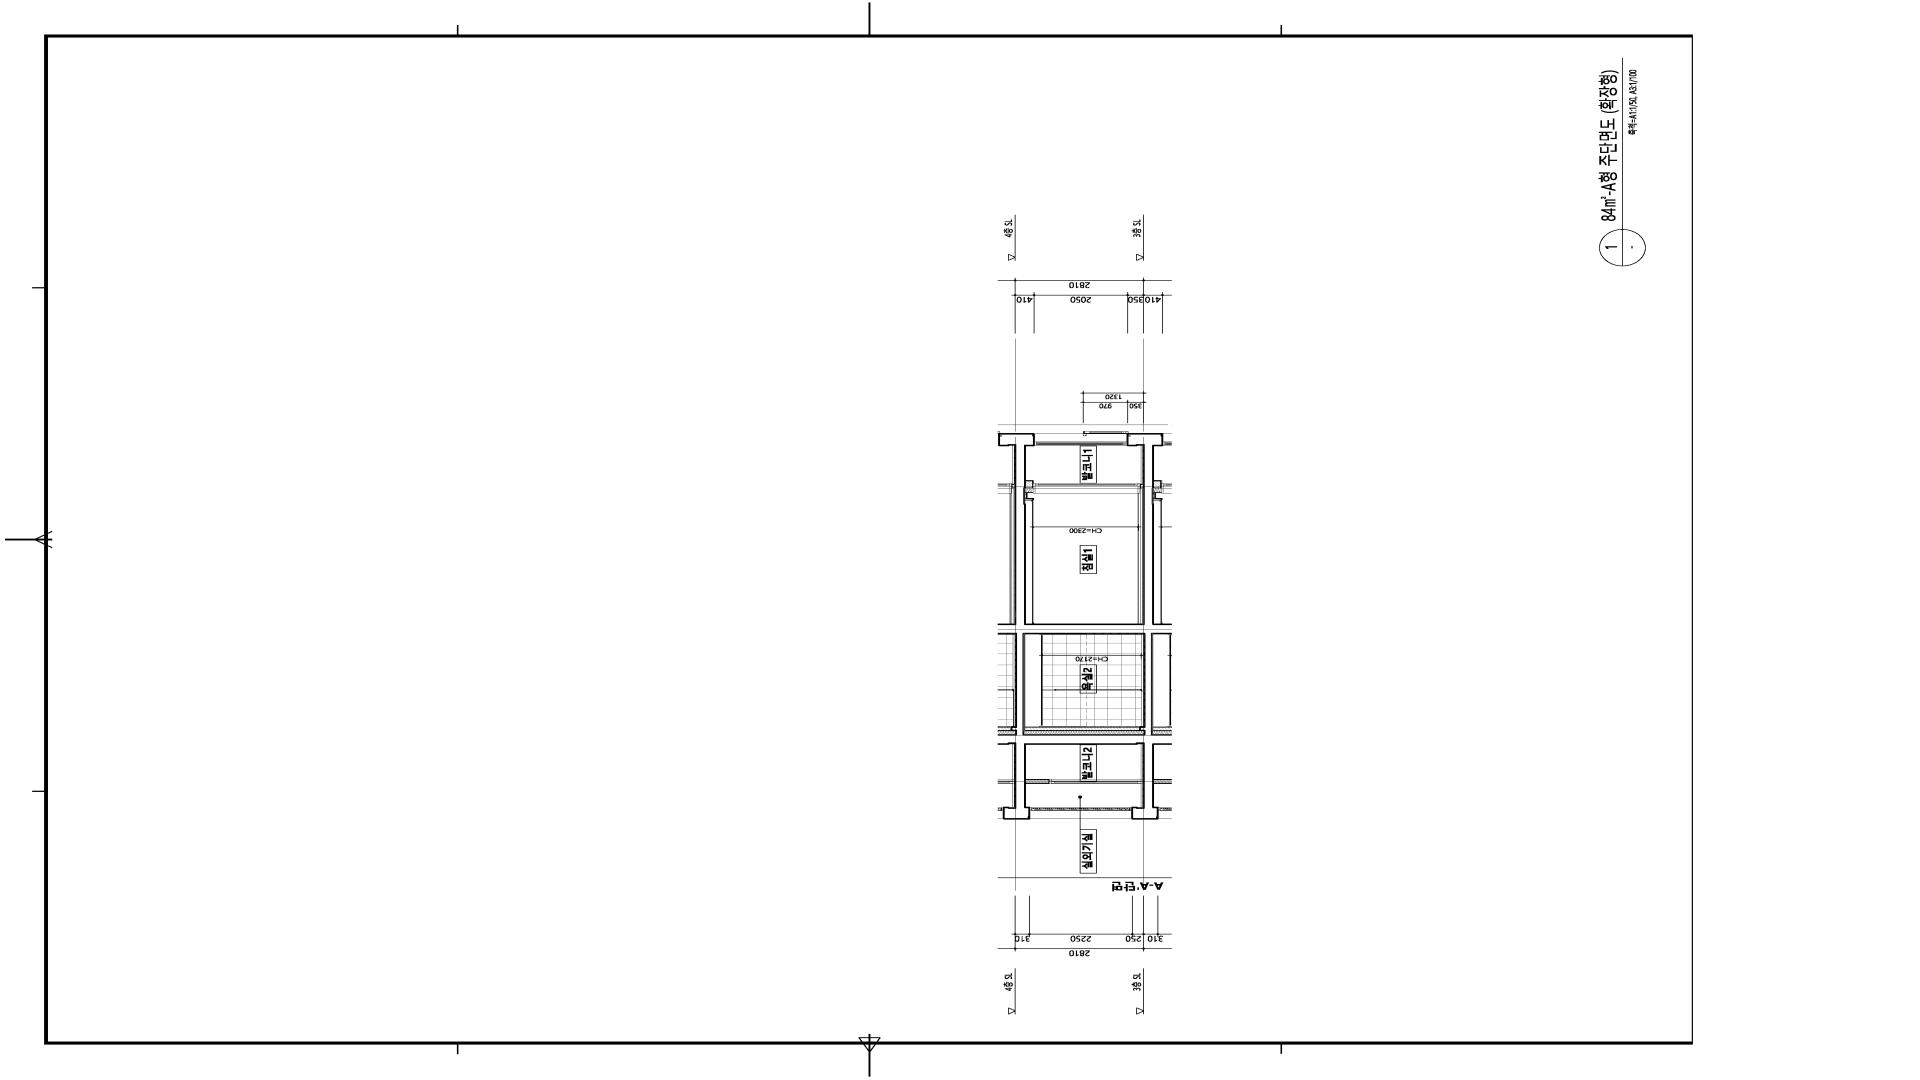door: (1050, 779, 1142, 783)
wall: (1014, 433, 1154, 820), (1025, 634, 1143, 735), (1025, 727, 1139, 731), (1030, 807, 1131, 811), (1026, 779, 1050, 785), (1026, 480, 1033, 488), (1141, 484, 1143, 488)
window: (1034, 431, 1127, 446), (1033, 483, 1141, 493)
